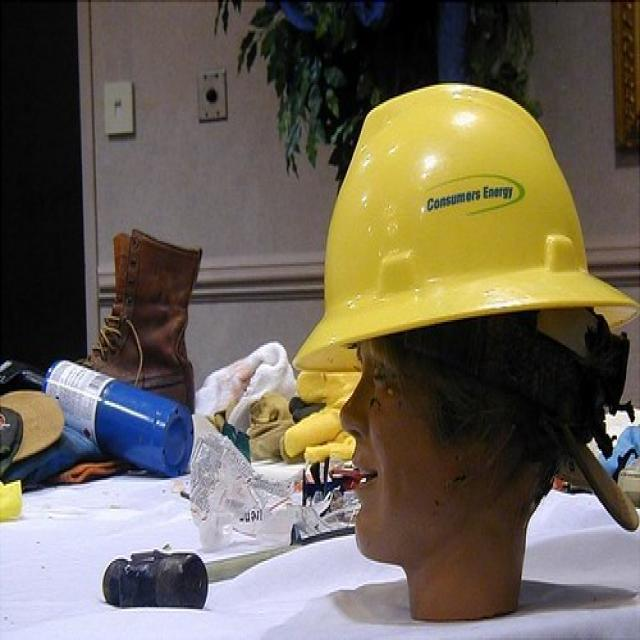helmet: (287, 75, 640, 380)
